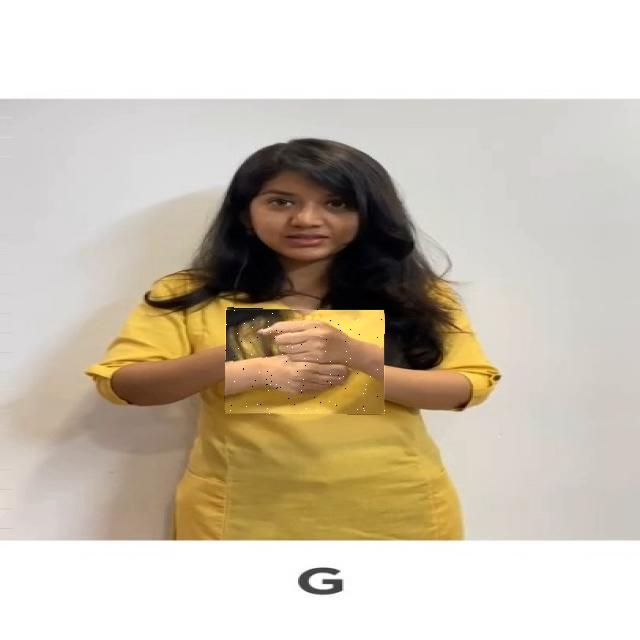G: (225, 309, 385, 414)
